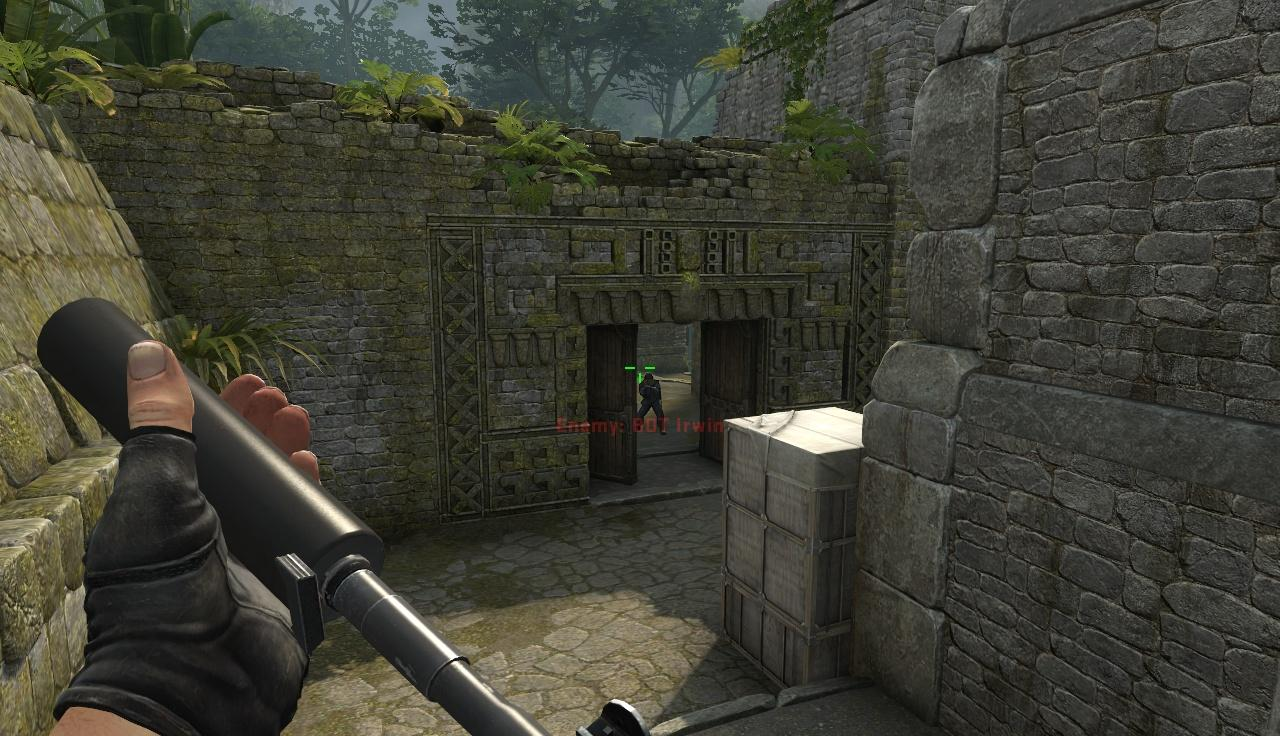ct: (640, 374, 661, 429)
cthead: (645, 373, 654, 384)
